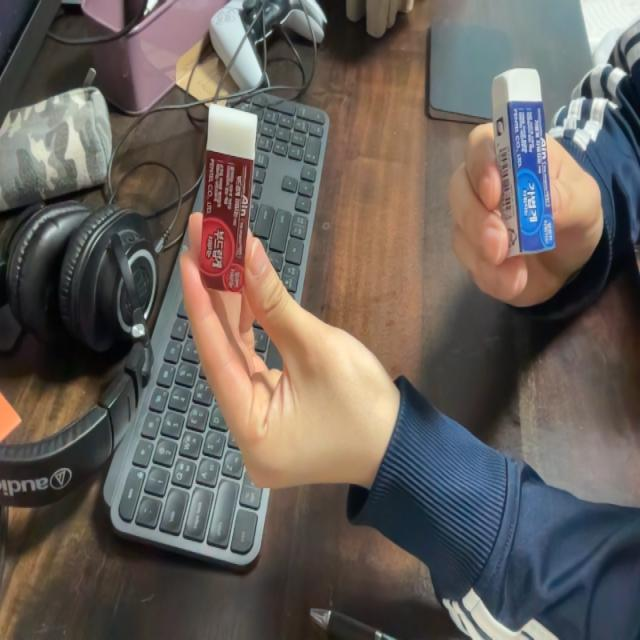blue: (489, 64, 563, 261)
red: (200, 98, 258, 299)
